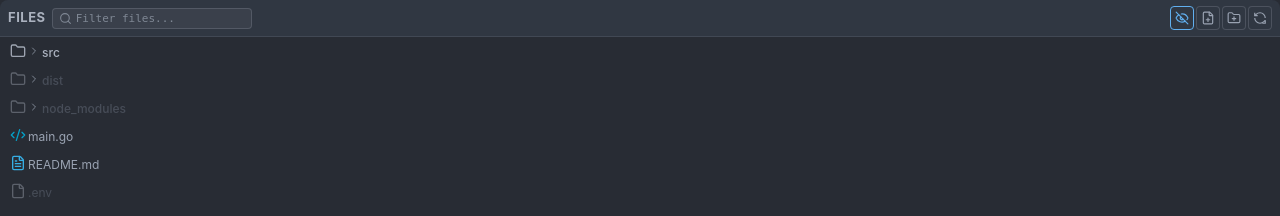
FileTree filter › shows no results message when nothing matches
Type "zzzzz" into the search field with class "file-tree-filter-input" at (160,18), box [76,10,245,26]
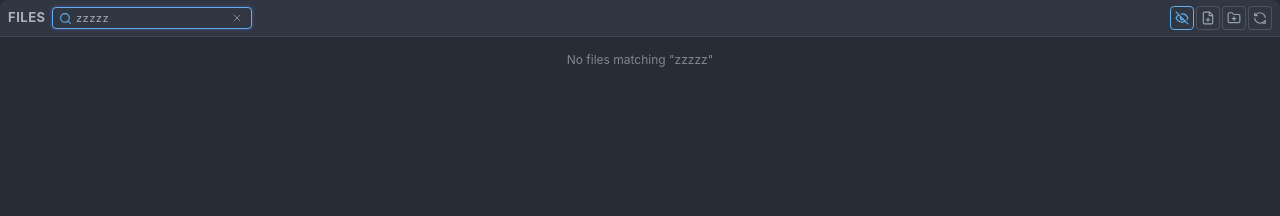
expect the message "No files matching \"zzzzz\"" is shown: met, box [567,52,713,67]
expect the message with class "file-tree-no-results" shows "No files matching": met, box [567,52,675,67]
